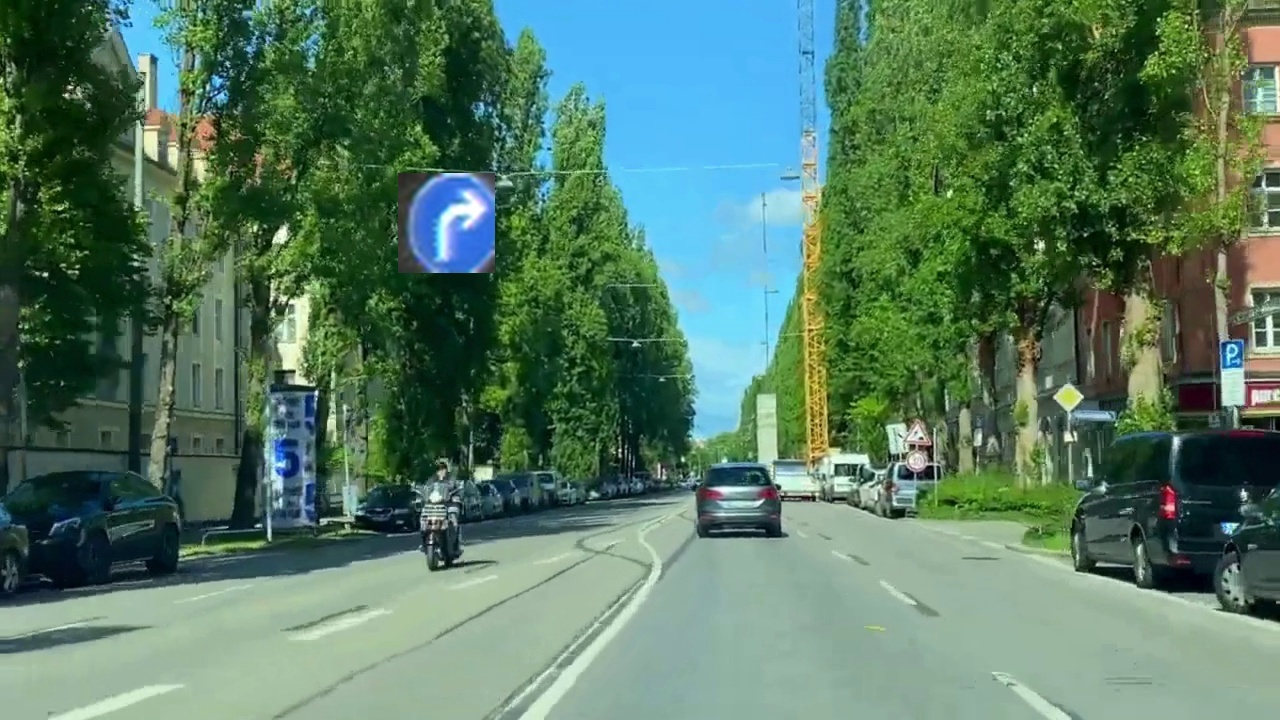Turn right: (398, 173, 495, 273)
